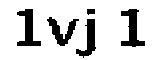1: (115, 6, 150, 53), (14, 8, 44, 51)
j: (77, 7, 101, 60)
v: (45, 13, 81, 48)
